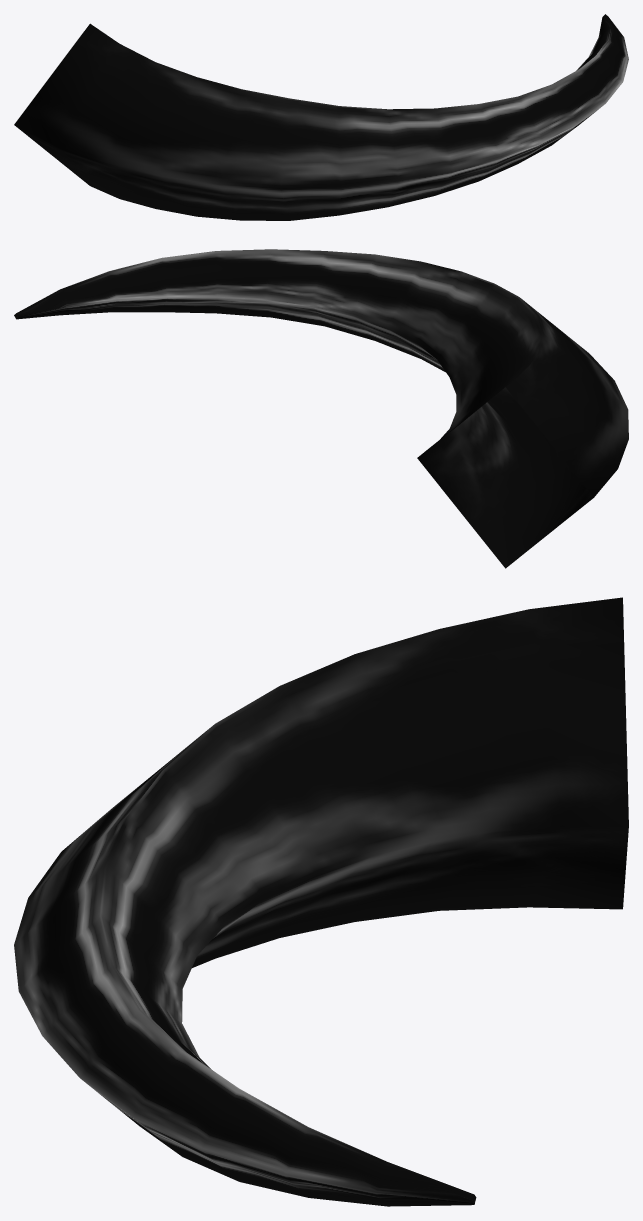
Rendered from EffCommonSpinWindS.obj.
The picture shows the model from 3 angles, top to bottom: view 1: azimuth 30°, elevation 25°; view 2: azimuth 150°, elevation 25°; view 3: azimuth 270°, elevation 25°; orthographic projection. The views are drawn at different scales.
Visible parts, largest first — view 1: polygon0; view 2: polygon0; view 3: polygon0.
Boxes of the visible parts, x1,y1,x2,y2 form: polygon0: [14, 14, 628, 220]; polygon0: [14, 249, 628, 568]; polygon0: [14, 597, 628, 1206].
Size of the model in its own units: 20.51 by 5.72 by 10.22.
Materials: 1 (1 with a texture image).
